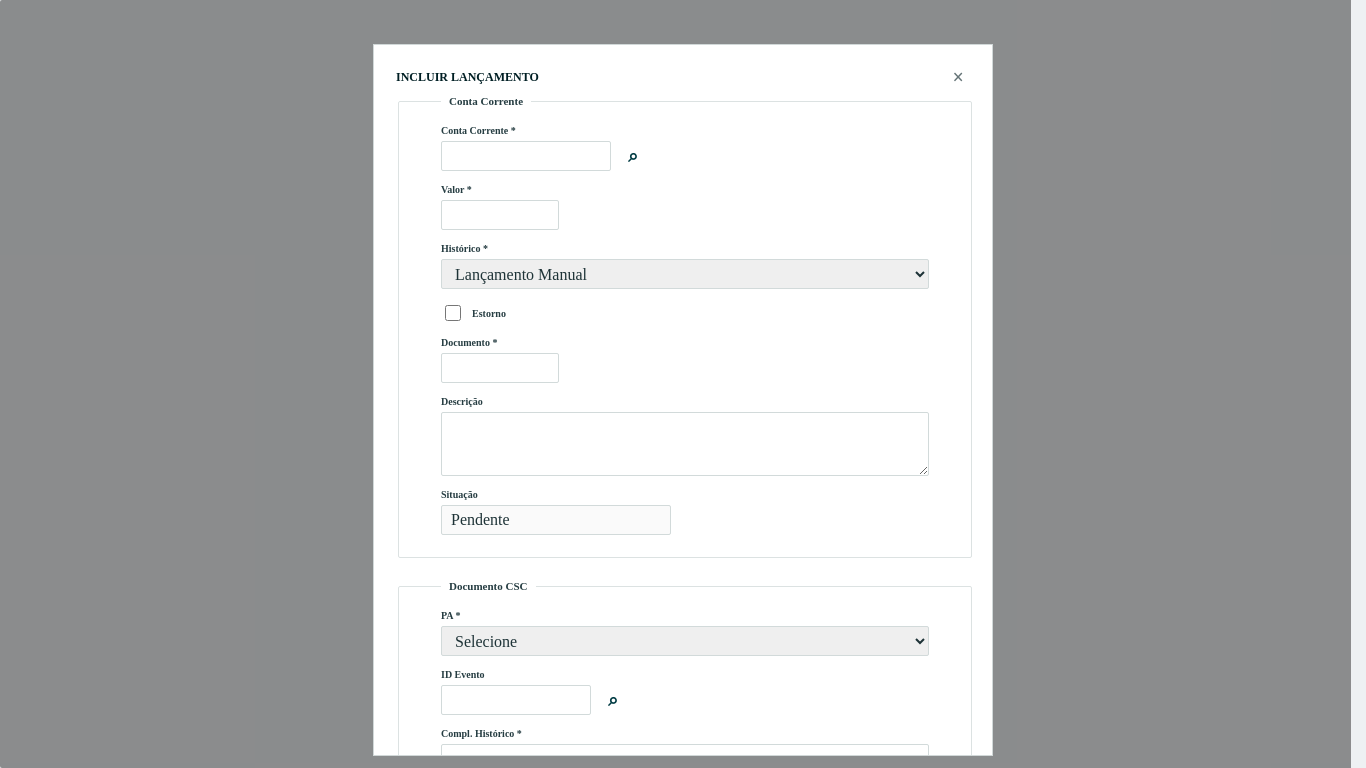
Test: LancamentoModalComponent › formats the value field as Brazilian money while typing
In the field named "valor": (500, 215) [441,200,559,230], type "150002"
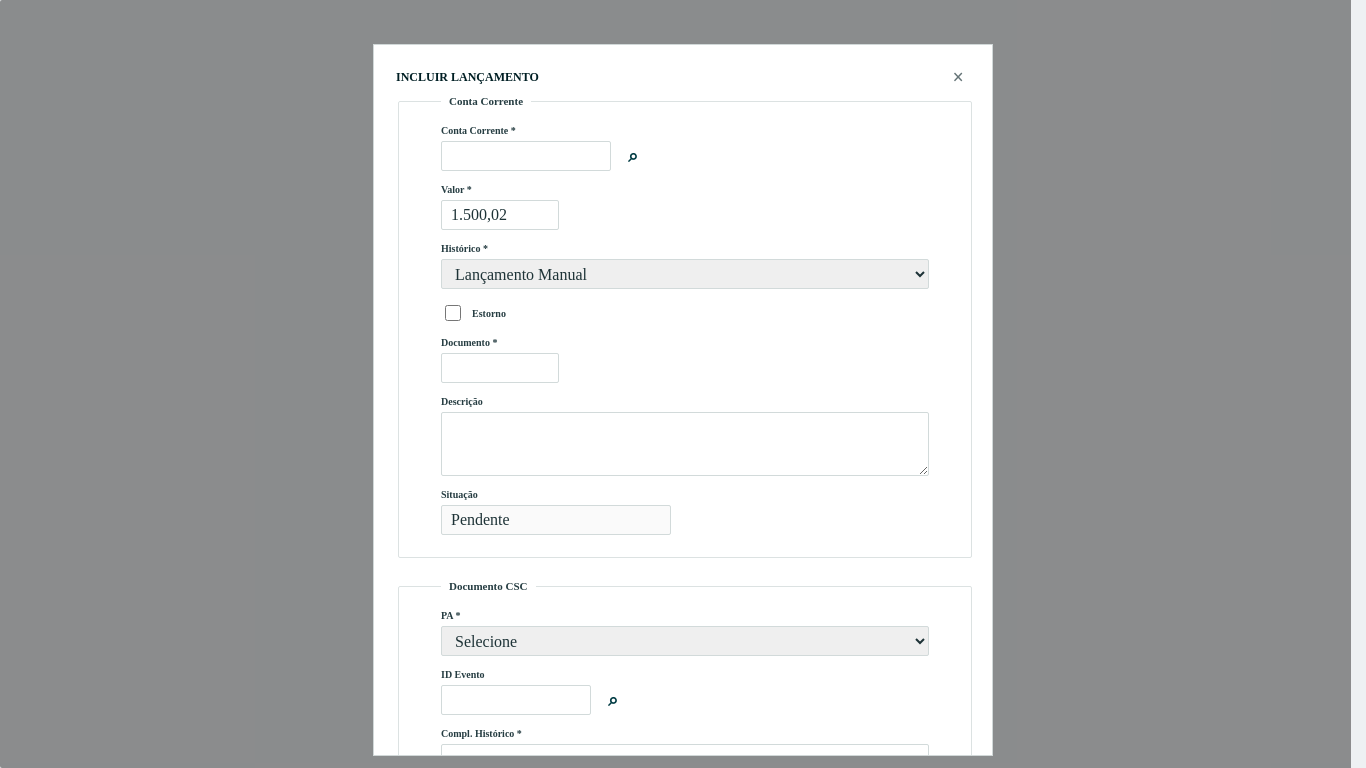
Check: the field named "valor" holds "1.500,02", box [441,200,559,230]
